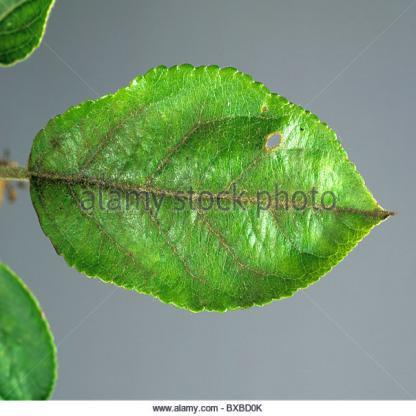Apple Scab Leaf: (28, 53, 397, 311)
